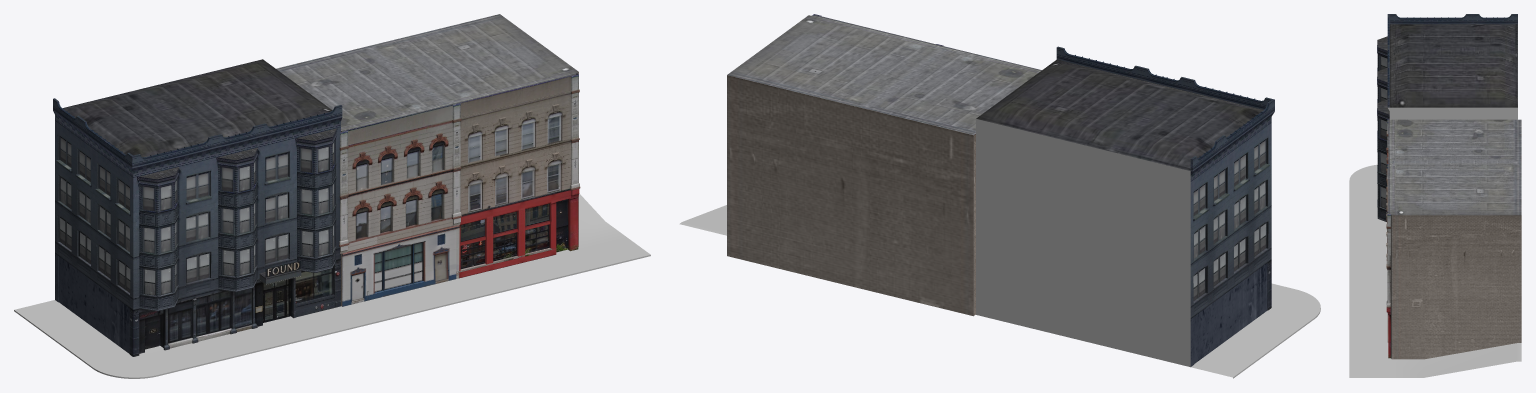
The model's file is Builds.fbx.
The picture shows the model from 3 angles, left to right: view 1: azimuth 30°, elevation 25°; view 2: azimuth 150°, elevation 25°; view 3: azimuth 270°, elevation 25°; orthographic projection. The views are drawn at different scales.
Parts seen in each view (by area): view 1: Building black, Building, Sidewalks; view 2: Building, Bricks, Building black, Sidewalks; view 3: Building, Building black, Sidewalks, Bricks.
Part boxes in pixels (box(x1,y1,x2,y2)): Building black: box(53, 59, 342, 356); Building: box(276, 14, 580, 306); Sidewalks: box(14, 193, 650, 378); Building: box(727, 14, 1041, 316); Bricks: box(976, 119, 1190, 366); Building black: box(976, 46, 1274, 366); Sidewalks: box(679, 205, 1320, 378); Building: box(1386, 119, 1521, 359); Building black: box(1377, 14, 1517, 221); Sidewalks: box(1349, 164, 1521, 377); Bricks: box(1388, 107, 1517, 119).
Size of the model in its own units: 19789 by 7186 by 6726.
